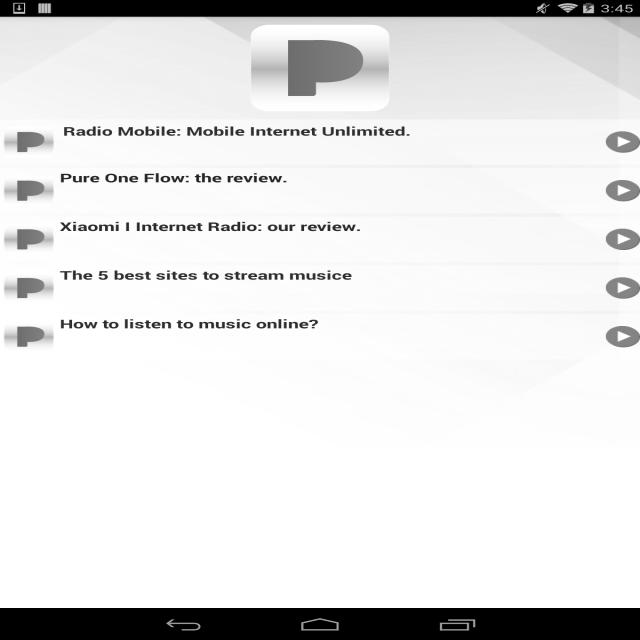ImageButton: (595, 125, 638, 156), (598, 226, 640, 250), (600, 323, 636, 348)
ImageView: (238, 23, 417, 113), (7, 125, 50, 162), (2, 175, 48, 199), (3, 274, 50, 294)
TextView: (55, 120, 416, 144), (51, 213, 374, 237), (58, 314, 324, 331)
